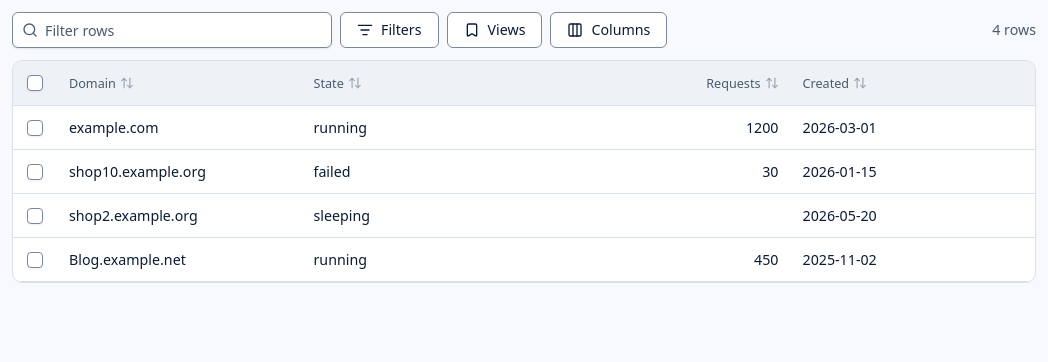
Scenario: the data table › selects rows for bulk actions
Click the checkbox named "Select example.com": (35, 128) [27, 120, 43, 136]
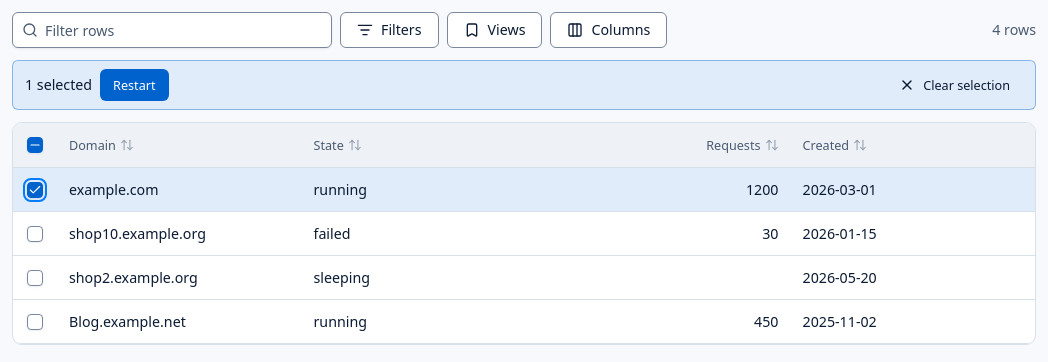
Click the checkbox named "Select Blog.example.net": (35, 322) [27, 314, 43, 330]
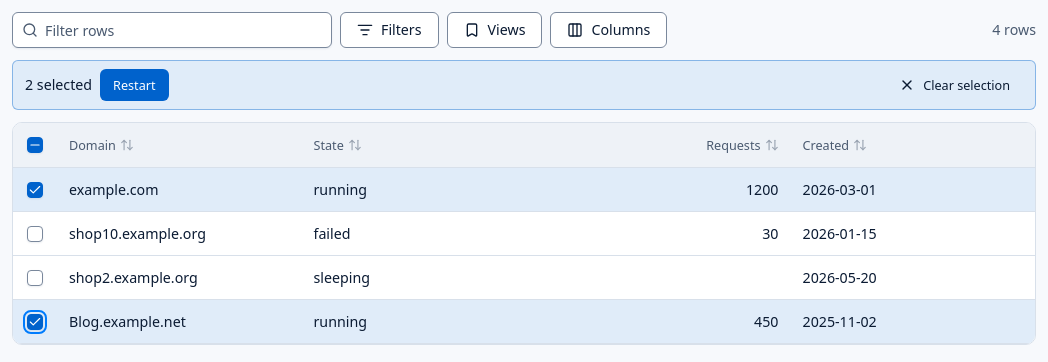
Check: the element named "Actions for the selected rows" shows "2 selected", box [25, 75, 92, 94]
Click the button "Restart": (134, 85) [100, 69, 168, 101]
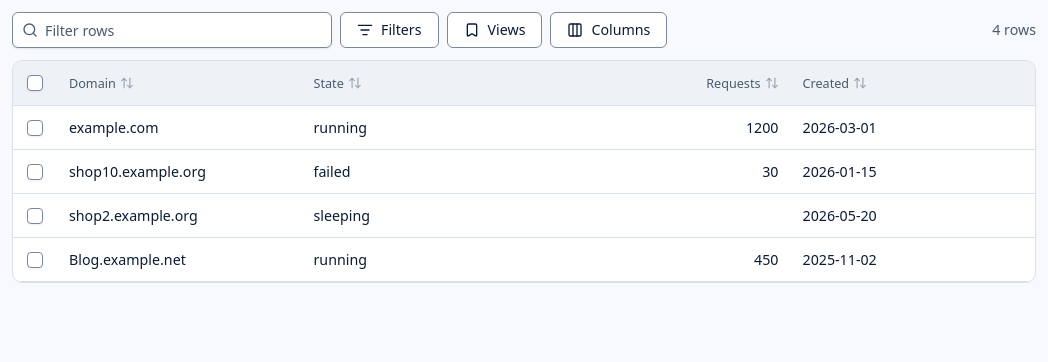
Click the checkbox named "Select all rows": (35, 83) [27, 75, 43, 91]
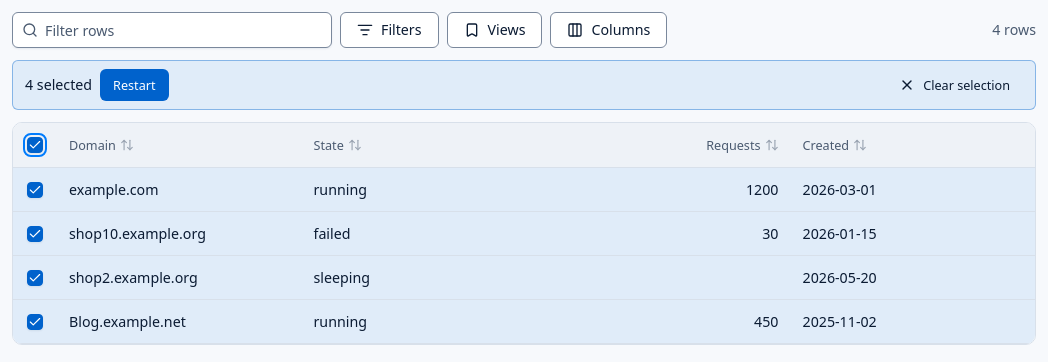
Check: the element showing "4 selected Restart Clear selection" is shown, box [12, 60, 1036, 110]
